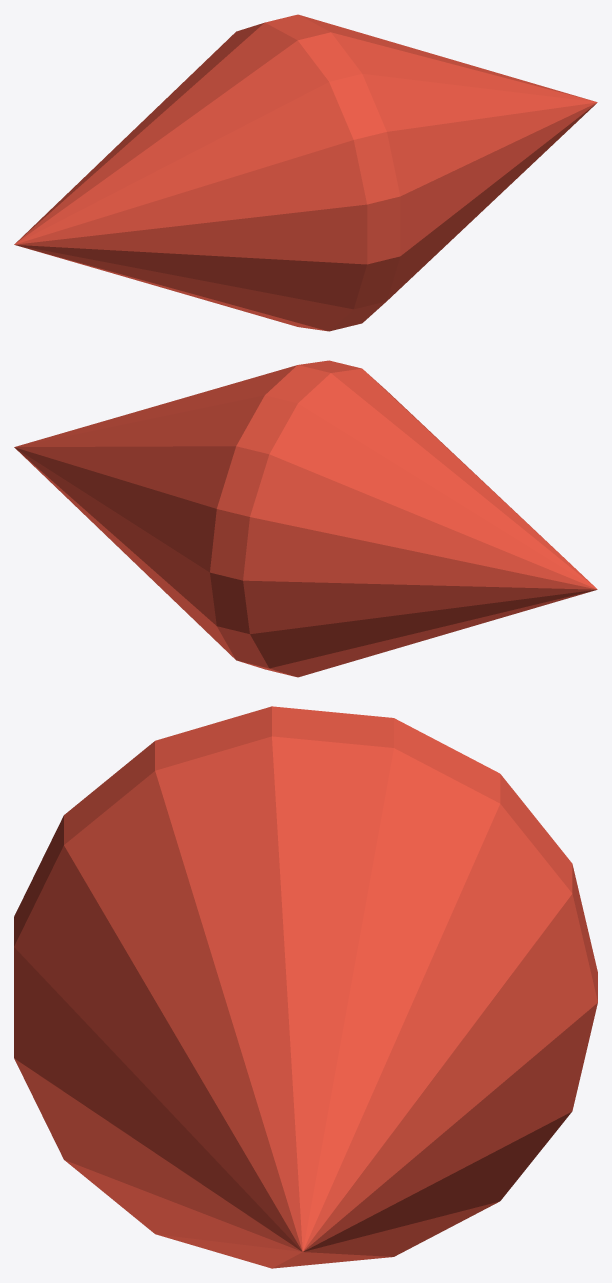
Rendered from bova2.fbx.
3 views of the same model, one above another, from view 1: azimuth 30°, elevation 25°; view 2: azimuth 150°, elevation 25°; view 3: azimuth 270°, elevation 25° (orthographic). The views are drawn at different scales.
Visible parts, largest first — view 1: Cone; view 2: Cone; view 3: Cone.
Boxes of the visible parts, <box> form: Cone: <box>14,14,597,331</box>; Cone: <box>14,360,597,677</box>; Cone: <box>14,706,597,1268</box>.
Bounding box in the file's own units: 424 × 199 × 198.
